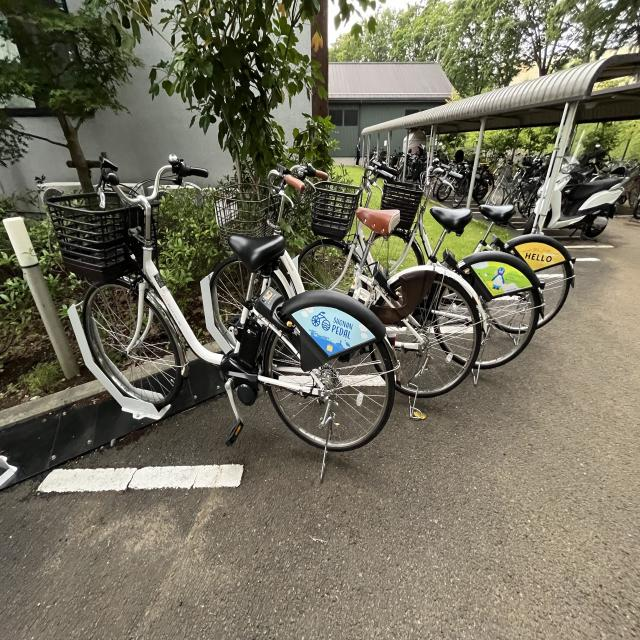basket: (45, 187, 163, 279), (210, 180, 279, 249), (311, 179, 358, 240)
battery: (234, 316, 268, 368)
